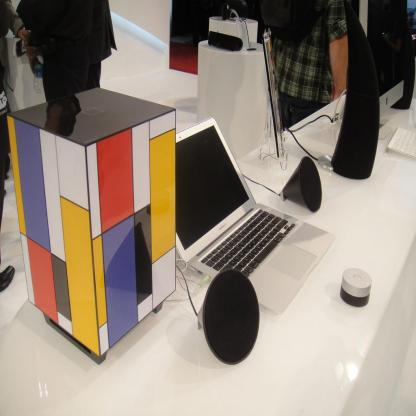board: (180, 115, 318, 320)
